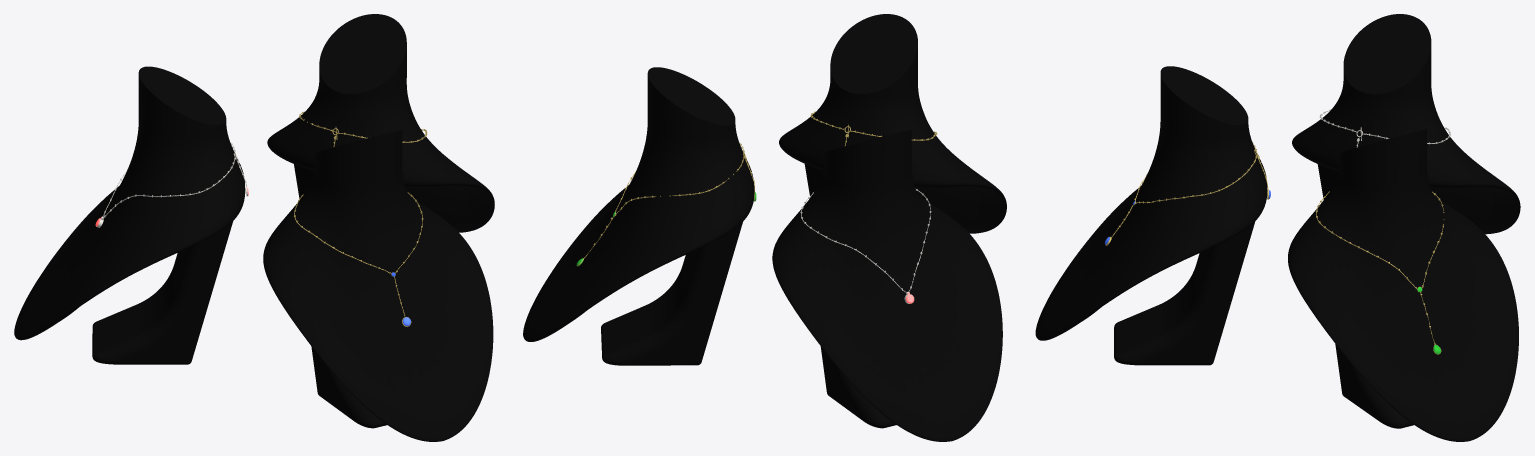
The model's file is three_gem_necklaces-transformed.glb.
3 renders of one model, left to right at view 1: azimuth 30°, elevation 25°; view 2: azimuth 150°, elevation 25°; view 3: azimuth 270°, elevation 25°, orthographic.
Parts seen in each view (by area): view 1: Necklace Bust Stand1_necklace_bust_stand material.002_0, Necklace01_Chain_0, Necklace03_Chain2_0; view 2: Necklace Bust Stand1_necklace_bust_stand material.002_0, Necklace01_Chain_0; view 3: Necklace Bust Stand1_necklace_bust_stand material.002_0, Necklace01_Chain_0.
Boxes of the visible parts, box(x1,y1,x2,y2) form: Necklace Bust Stand1_necklace_bust_stand material.002_0: box(14, 14, 494, 441); Necklace01_Chain_0: box(294, 111, 427, 326); Necklace03_Chain2_0: box(96, 143, 248, 227); Necklace Bust Stand1_necklace_bust_stand material.002_0: box(523, 14, 1006, 441); Necklace01_Chain_0: box(577, 111, 937, 266); Necklace Bust Stand1_necklace_bust_stand material.002_0: box(1035, 14, 1520, 441); Necklace01_Chain_0: box(1105, 142, 1444, 354).
Bounding box in the file's own units: 0.5939 × 0.3412 × 0.5519.
Materials: 6 (3 with a texture image).
